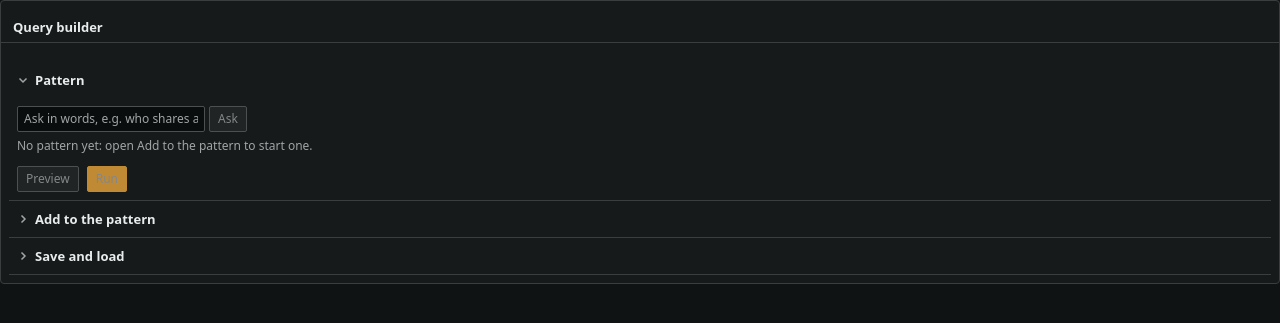
it: QueryBuilderPanel ask to search › says it could not express the question and draws nothing
The width and height of the screenshot is (1280, 323).
Type "Who is guilty?" into the field named "Ask to search".
click(111, 119); type("Who is guilty?")  # box top-left (17, 106), bottom-right (205, 132)
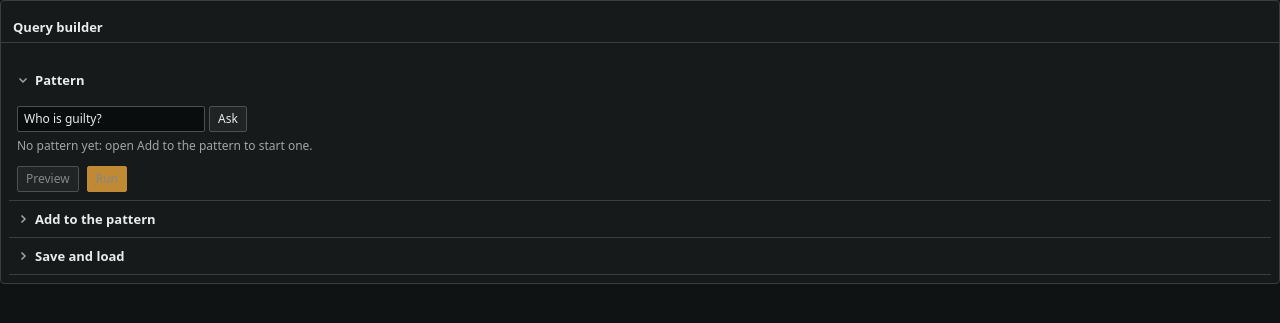
Click the button "Ask".
click(228, 119)  # box top-left (209, 106), bottom-right (247, 132)
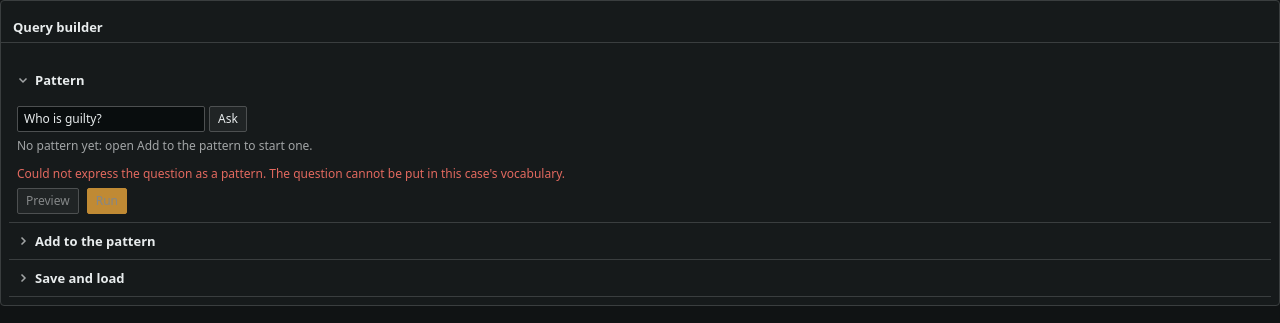
Now the text "Could not express the question as a pattern." is shown, box top-left (17, 165), bottom-right (565, 182)
